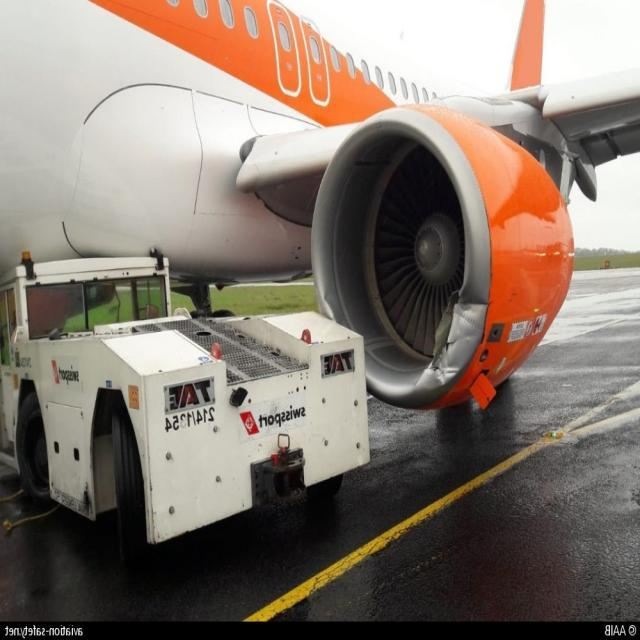crack: (429, 290, 464, 373)
dent: (455, 303, 488, 343), (435, 354, 463, 389), (326, 294, 342, 328)
